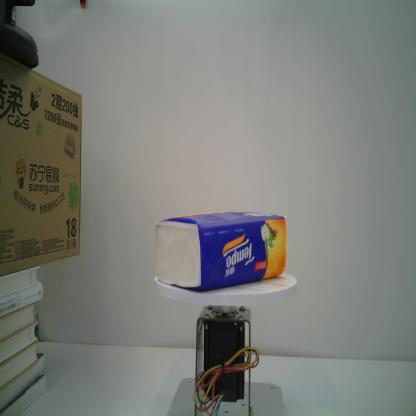Tissue: (147, 207, 288, 294)
